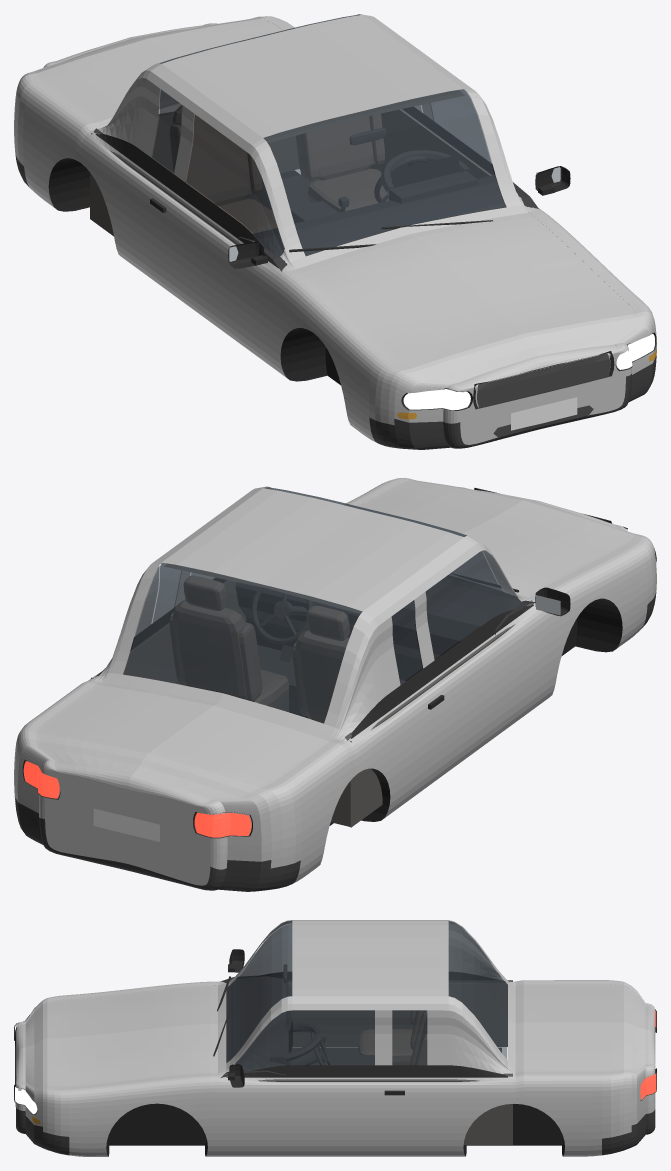
File: car_rook.fbx
The picture shows the model from 3 angles, top to bottom: view 1: azimuth 30°, elevation 25°; view 2: azimuth 150°, elevation 25°; view 3: azimuth 270°, elevation 25°; orthographic projection. The views are drawn at different scales.
Visible parts, largest first — view 1: rook__hood, rook__glass, rook__roof, rook__doorR, rook__trunk, rook__seats, rook__interior, rook__fenderFR, rook__pillars, rook__quarterR, rook__cabin, rook__fascia (+10 smaller); view 2: rook__glass, rook__trunk, rook__roof, rook__hood, rook__doorR, rook__seats, rook__quarterR, rook__rearPanel, rook__pillars, rook__interior, rook__fenderFR, rook__cabin (+7 smaller); view 3: rook__hood, rook__glass, rook__doorL, rook__trunk, rook__roof, rook__quarterL, rook__fenderFL, rook__pillars, rook__cabin, rook__interior, rook__wells, rook__seals (+5 smaller).
Boxes of the visible parts, x1,y1,x2,y2 form: rook__hood: (284,210,645,391); rook__glass: (152,14,520,256); rook__roof: (151,14,474,144); rook__doorR: (127,167,275,367); rook__trunk: (25,16,539,272); rook__seats: (169,105,391,233); rook__interior: (238,128,538,271); rook__fenderFR: (264,267,450,442); rook__pillars: (100,14,524,263); rook__quarterR: (14,74,138,267); rook__cabin: (90,90,490,266); rook__fascia: (443,344,631,444); rook__glass: (124,487,520,722); rook__trunk: (25,574,535,810); rook__roof: (151,488,474,618); rook__hood: (346,478,645,599); rook__doorR: (395,607,543,807); rook__seats: (169,575,349,723); rook__quarterR: (220,707,406,883); rook__rearPanel: (39,762,227,885); rook__pillars: (99,486,524,735); rook__interior: (235,577,535,718); rook__fenderFR: (532,537,656,708); rook__cabin: (91,563,534,827); rook__hood: (16,981,217,1092); rook__glass: (227,921,507,1070); rook__doorL: (230,1077,440,1156); rook__trunk: (218,980,655,1077); rook__roof: (292,920,448,1003); rook__quarterL: (441,1068,645,1156); rook__fenderFL: (25,1077,230,1156); rook__pillars: (226,920,507,1074); rook__cabin: (224,980,512,1144); rook__interior: (220,964,501,1077); rook__wells: (106,1103,564,1156); rook__seals: (226,971,507,1077).
Bounding box in the file's own units: 2.2 × 1.25 × 4.72.
